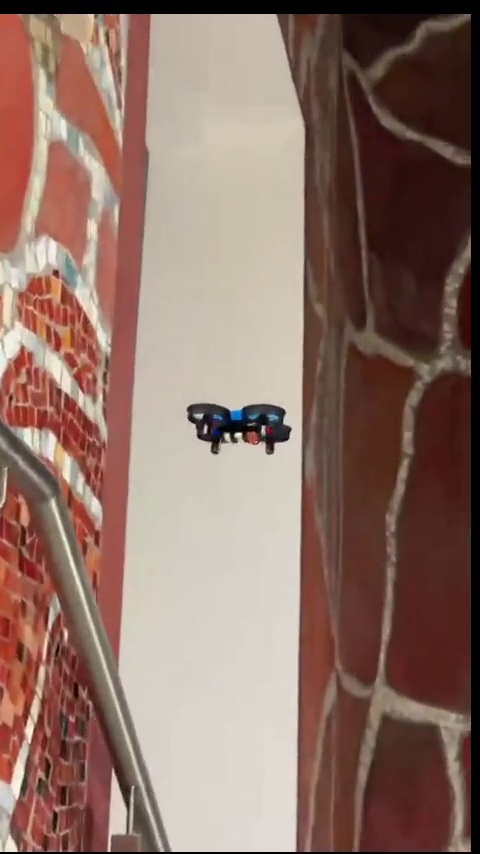drone: (188, 404, 300, 458)
